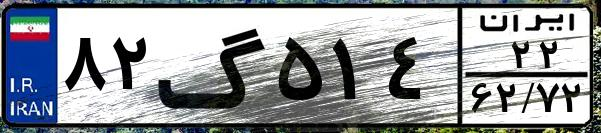1: (330, 28, 385, 110)
2: (110, 28, 156, 98), (560, 70, 590, 125), (537, 27, 568, 80), (508, 27, 537, 80), (495, 70, 520, 125)
4: (385, 28, 445, 110)
5: (270, 28, 330, 110)
6: (470, 70, 495, 125)
7: (535, 70, 560, 125)
8: (57, 26, 110, 100)
گ: (156, 12, 270, 120)
